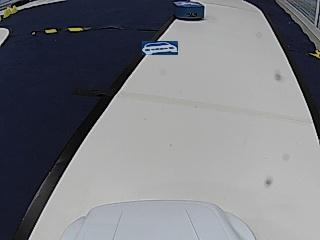prop: (174, 2, 203, 21)
